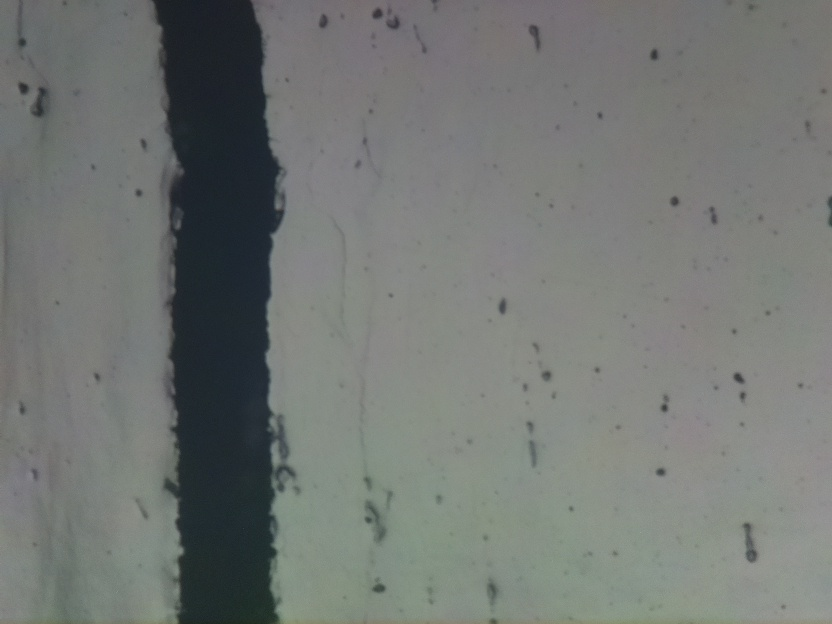crack: (155, 0, 282, 621)
